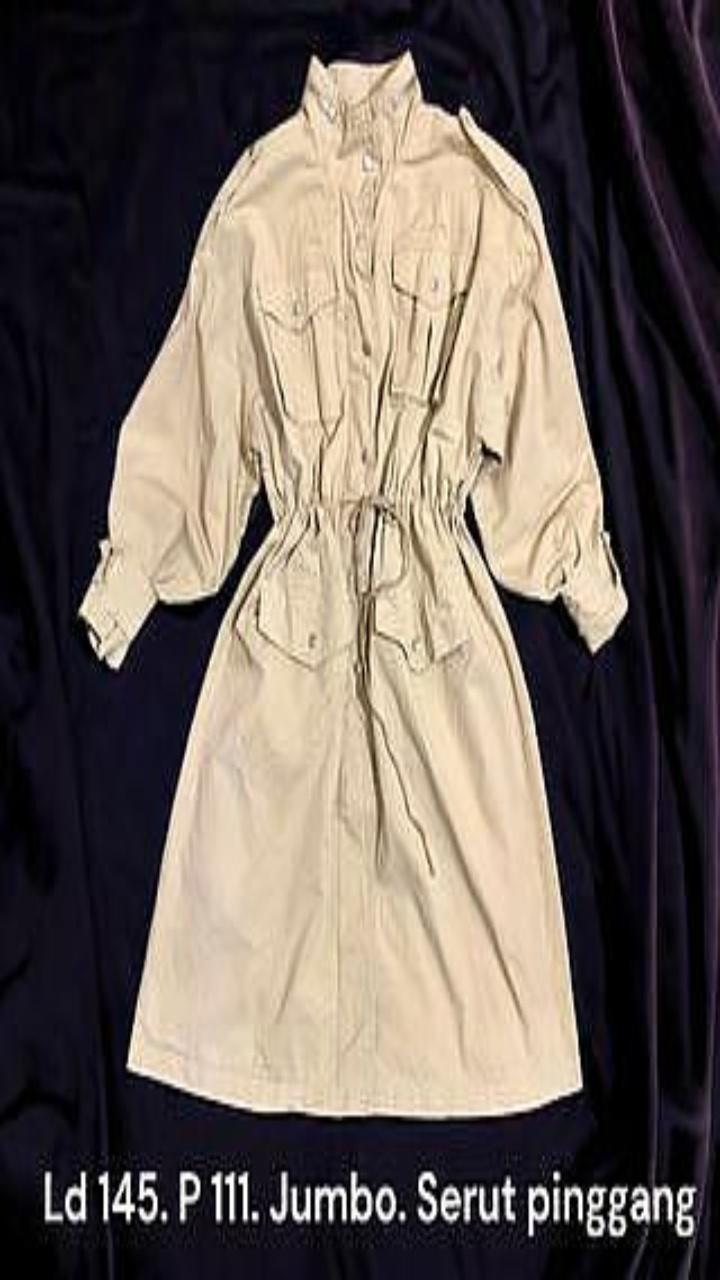Coat: (79, 51, 627, 1116)
